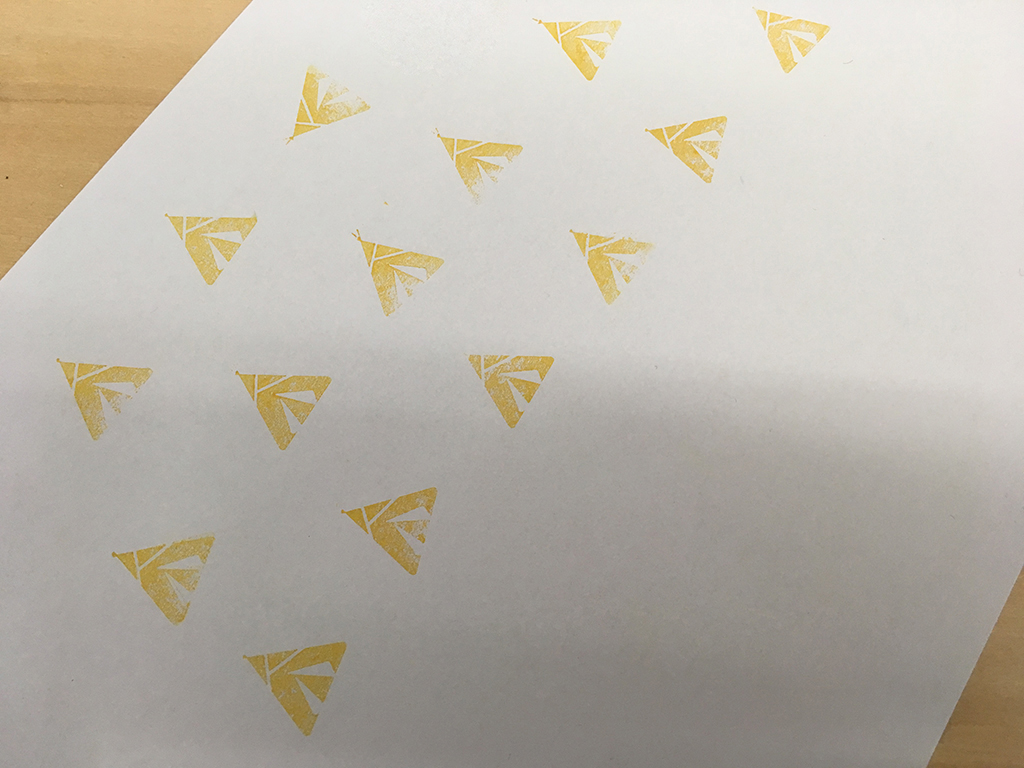tent: (97, 526, 224, 632), (329, 479, 445, 587), (238, 637, 356, 737), (43, 349, 161, 446), (226, 359, 336, 456), (345, 223, 448, 324), (155, 202, 264, 297), (421, 118, 530, 209), (277, 56, 374, 155), (451, 346, 562, 432), (562, 223, 663, 315), (518, 9, 630, 90), (640, 102, 733, 192), (746, 1, 839, 82)
